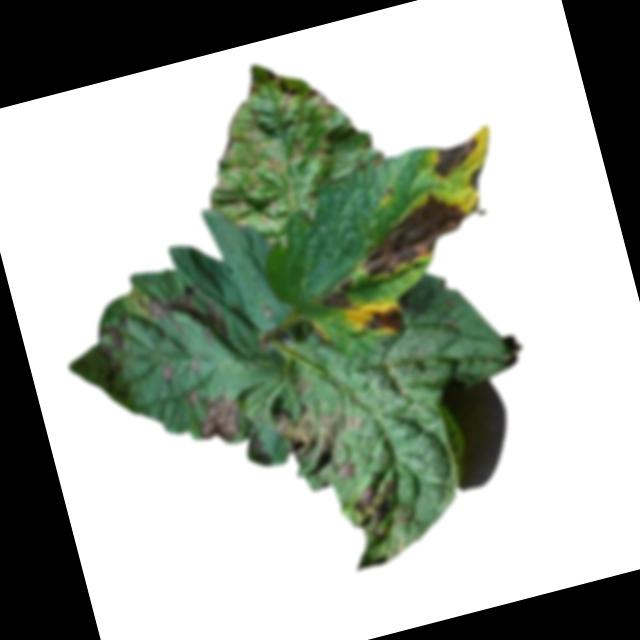Early_blight: (347, 183, 479, 285), (269, 396, 367, 496), (133, 273, 237, 364), (347, 476, 412, 540), (192, 391, 249, 452), (427, 133, 484, 181), (364, 296, 410, 344), (264, 64, 304, 117), (317, 275, 362, 317), (100, 311, 138, 353), (299, 84, 341, 118), (466, 165, 488, 193)
